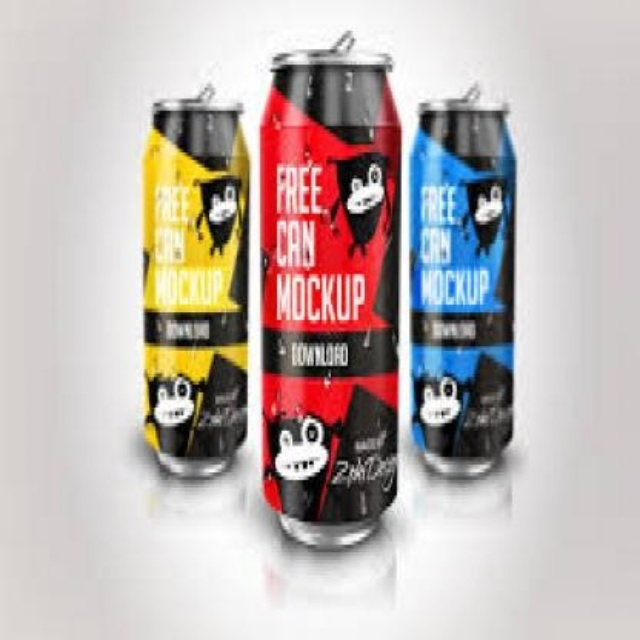trash: (262, 35, 400, 548), (143, 98, 248, 475), (411, 98, 514, 475)
